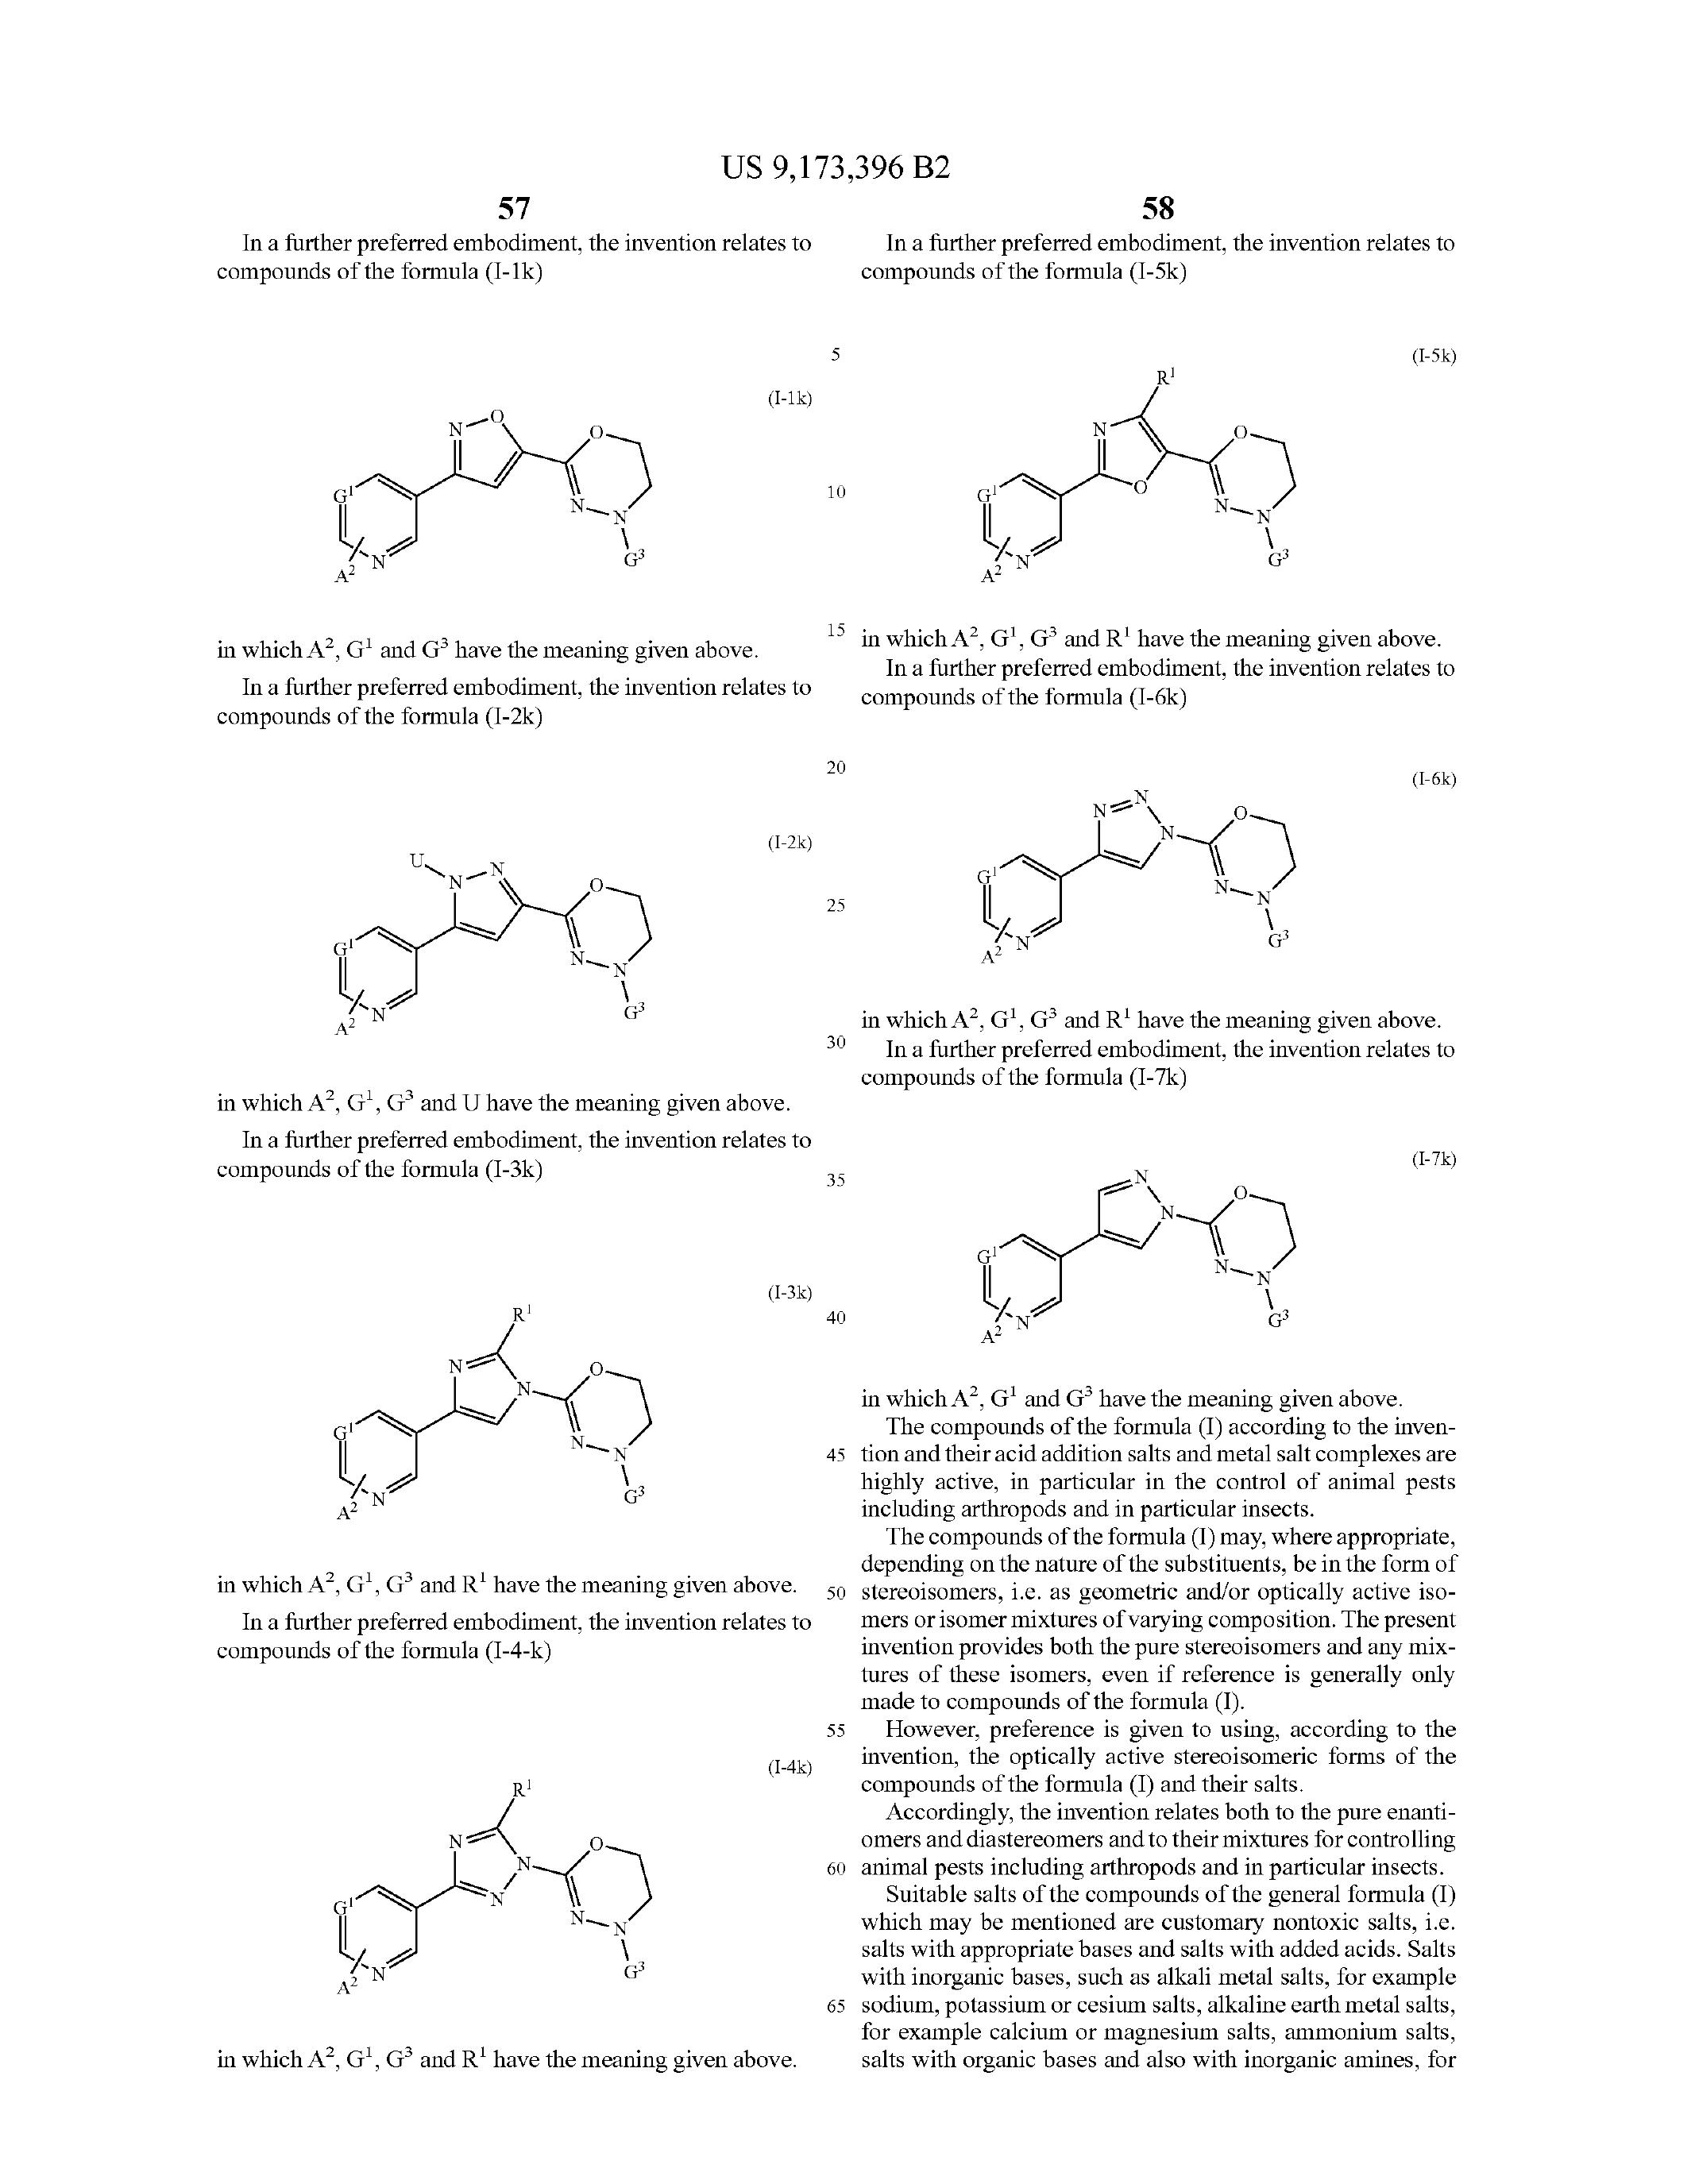substitutes: (218, 351, 762, 596)
